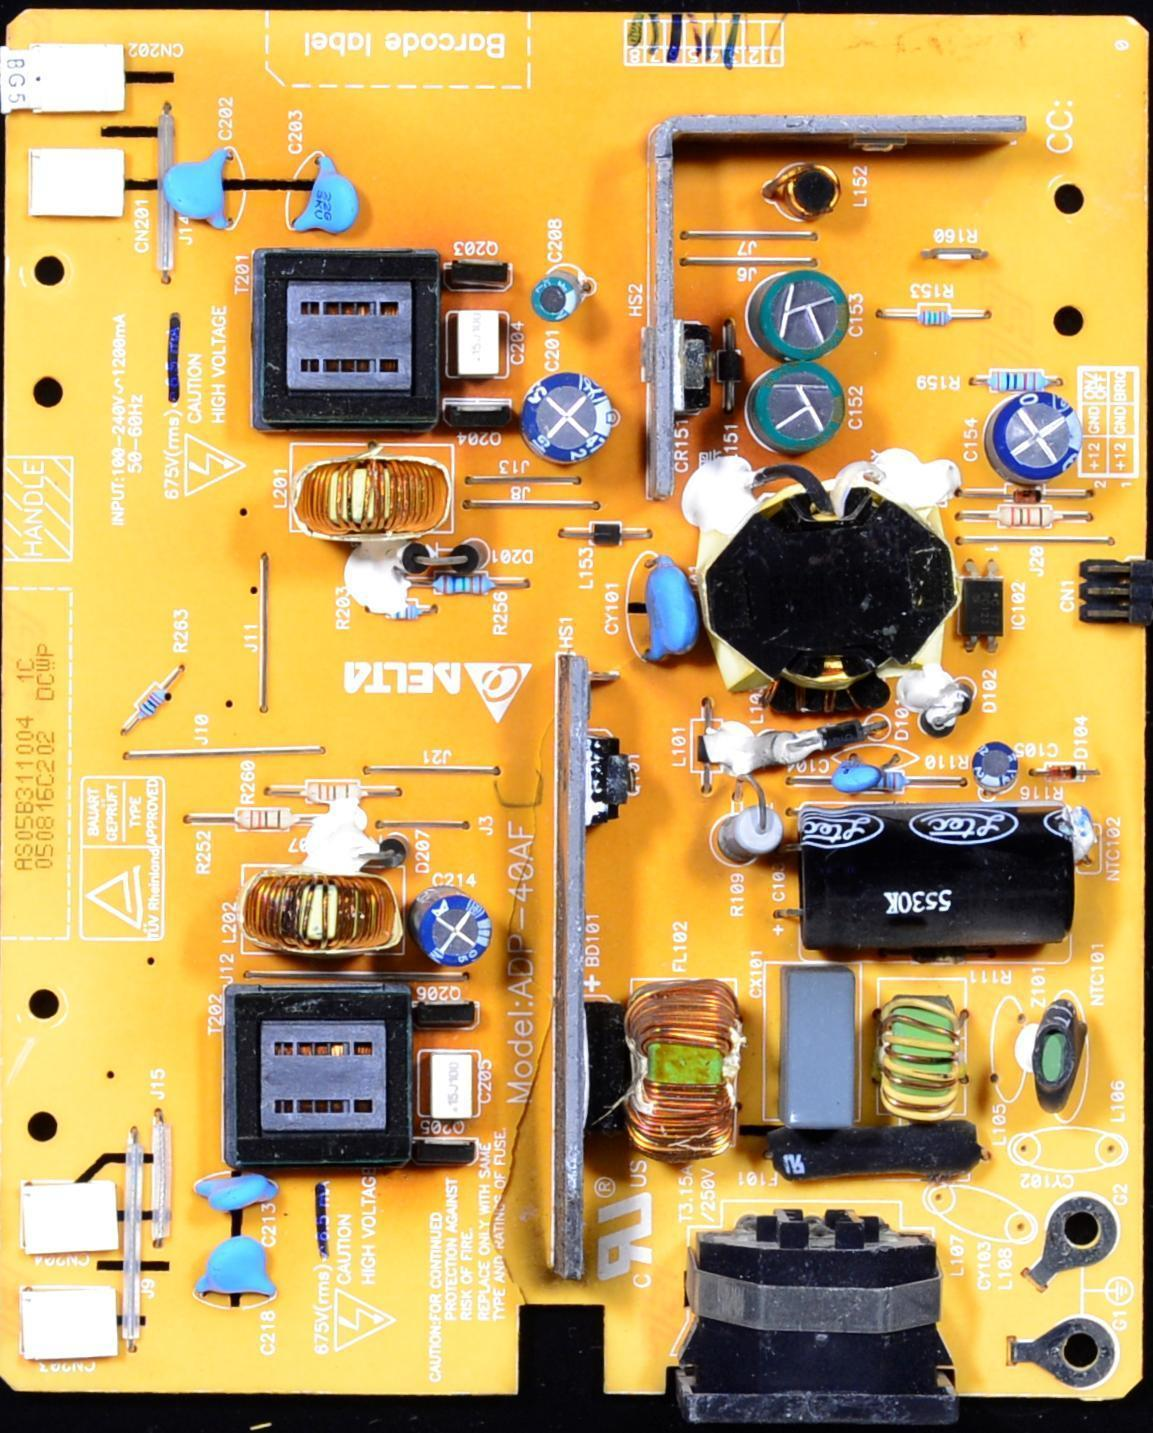Capacitor: (800, 801, 1077, 958), (749, 360, 850, 456), (982, 396, 1084, 486), (757, 268, 853, 359), (525, 373, 621, 462), (194, 1228, 281, 1308), (163, 148, 242, 232), (638, 558, 699, 665), (411, 883, 491, 965), (293, 160, 362, 236), (417, 1048, 481, 1127), (193, 1167, 278, 1216), (532, 268, 586, 319), (969, 740, 1024, 791), (834, 754, 882, 794)
Resistor: (712, 791, 795, 878), (986, 491, 1067, 535), (433, 561, 510, 606), (234, 798, 300, 841), (304, 771, 369, 812), (826, 771, 911, 802), (982, 365, 1062, 398), (903, 296, 968, 333), (129, 683, 178, 723), (374, 602, 437, 628)
Transistor: (408, 990, 487, 1036), (446, 250, 511, 297), (407, 1137, 481, 1174)
